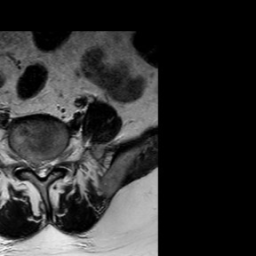CCS_normal: (37, 150, 45, 185)
LFS_normal: (54, 144, 62, 171)
LLS_normal: (45, 149, 54, 179)
RFS_normal: (21, 145, 29, 177)
RLS_normal: (29, 148, 37, 177)
